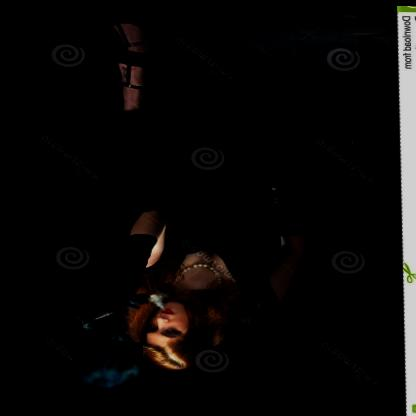smoke: (71, 341, 142, 395)
